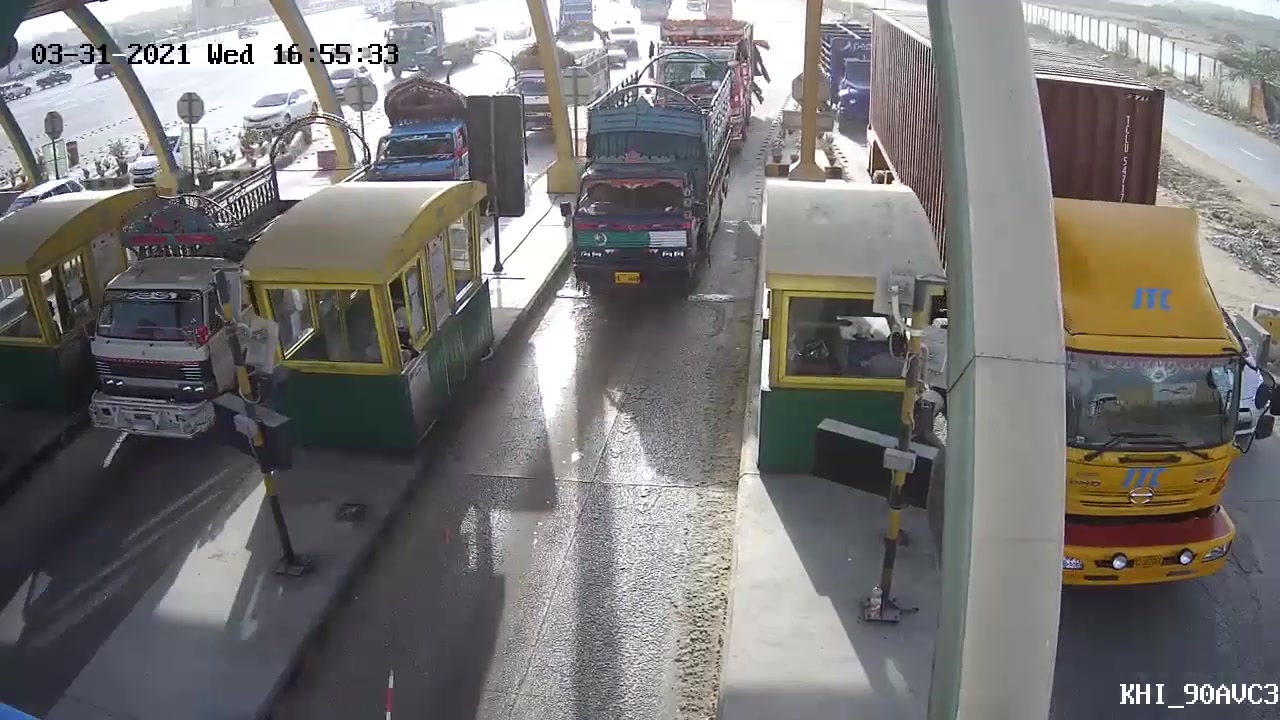F5: (552, 60, 734, 314)
